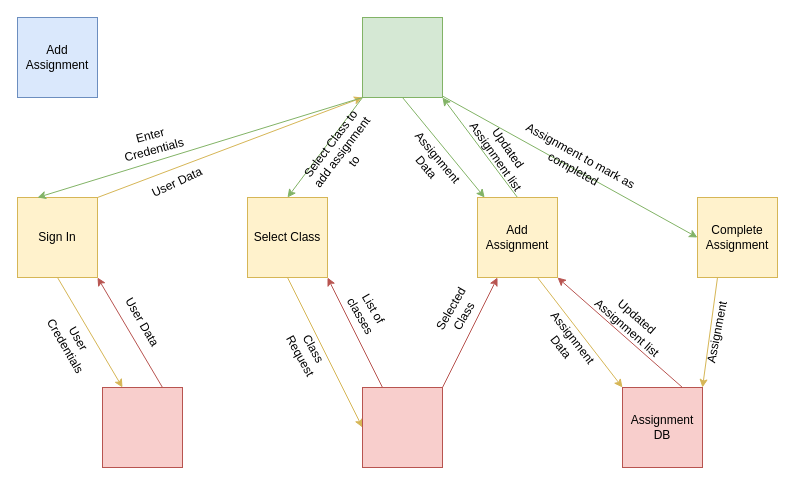
Image size: 795x485. Some labels were removed from this diagram. Here are the shapes that lost their labels. From the top down, the centre of each, then its label:
the point at 402,57: User
the point at 142,427: User DB
the point at 402,427: Class DB
